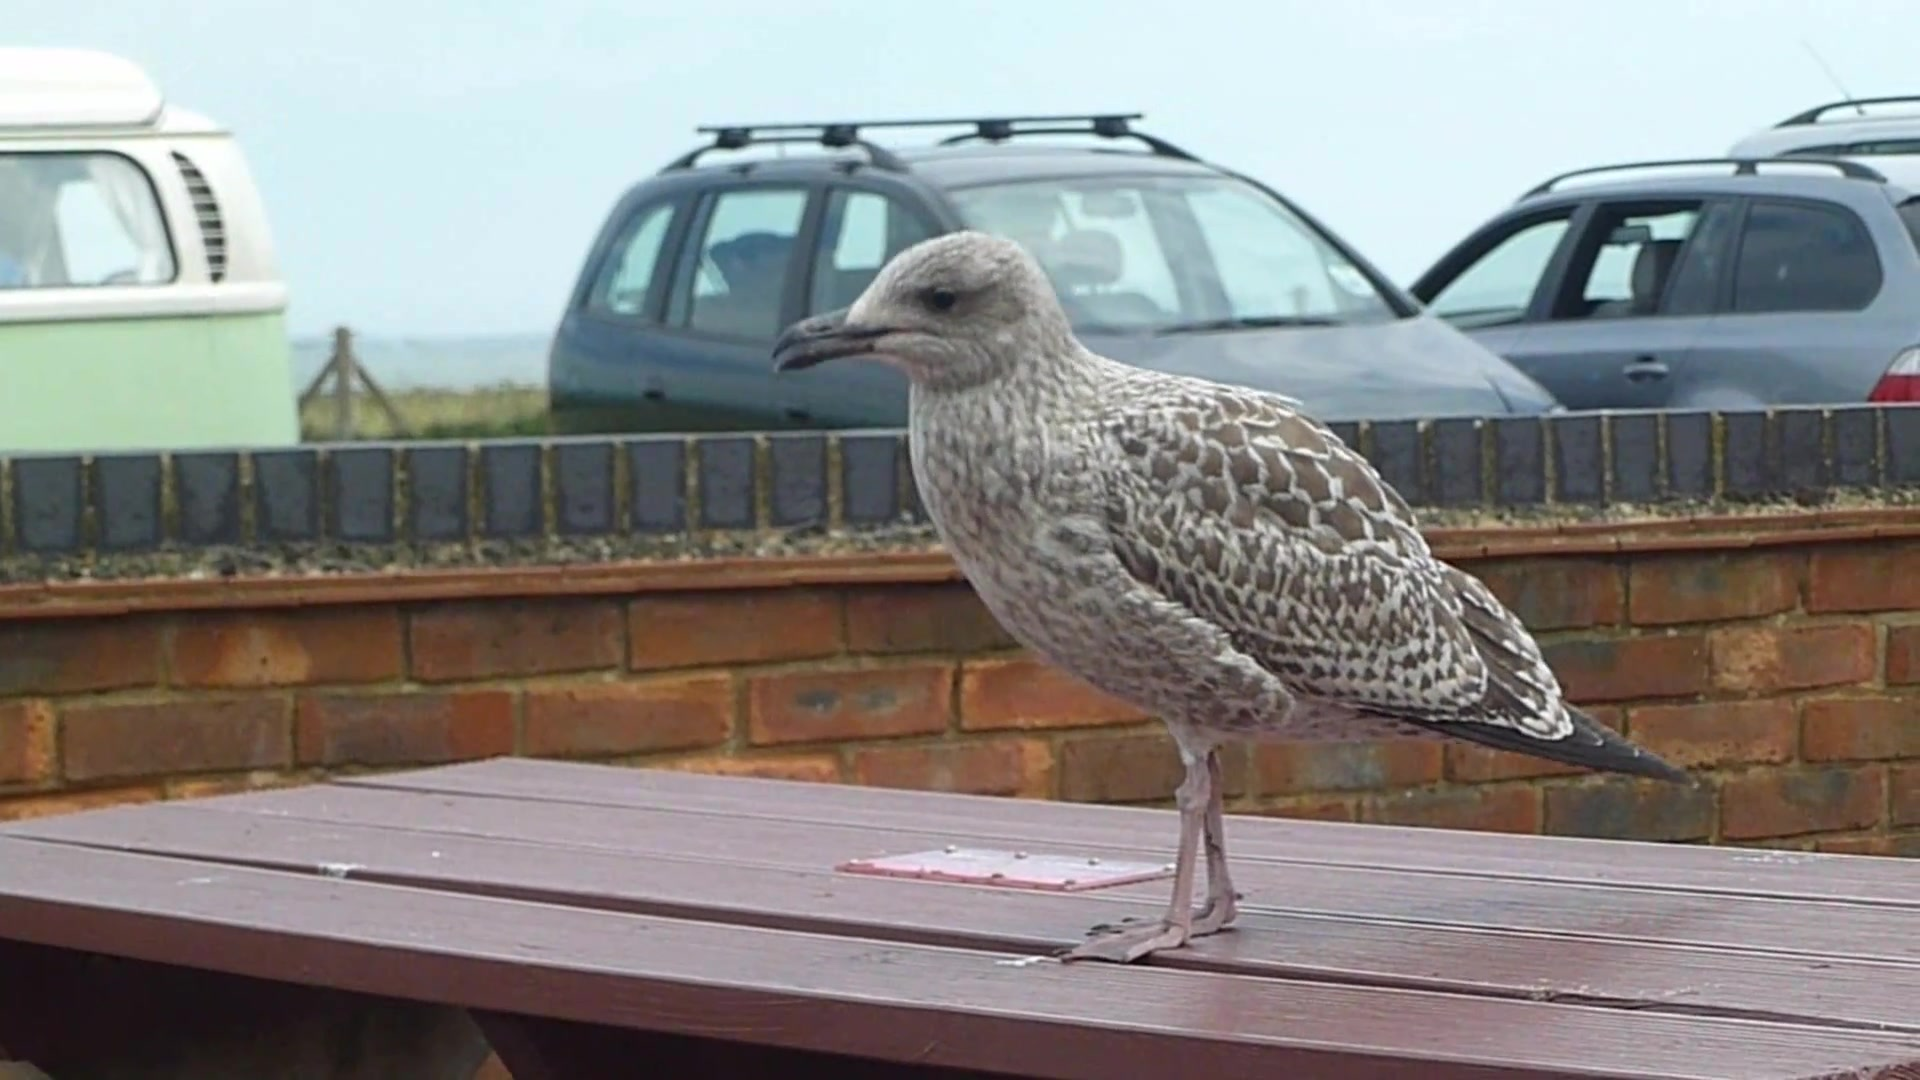bird: (771, 233, 1704, 967)
